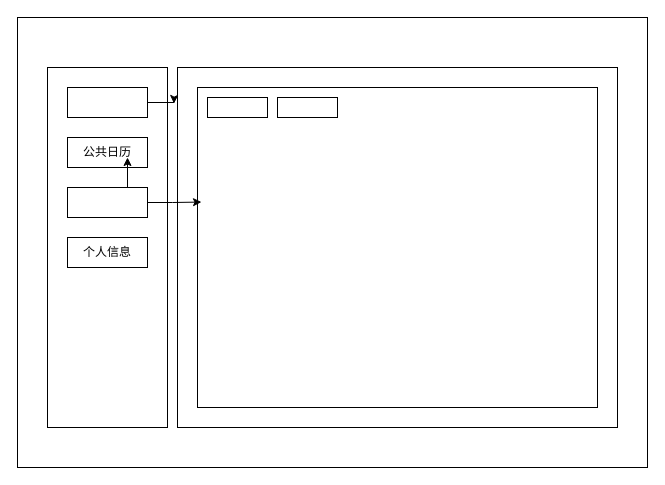
This 665x485 diagram has some shape labels left out. Each missing label, with the centre of its shape:
"个人日历" belongs at pixel 107 102.
"活动历史" belongs at pixel 107 202.
